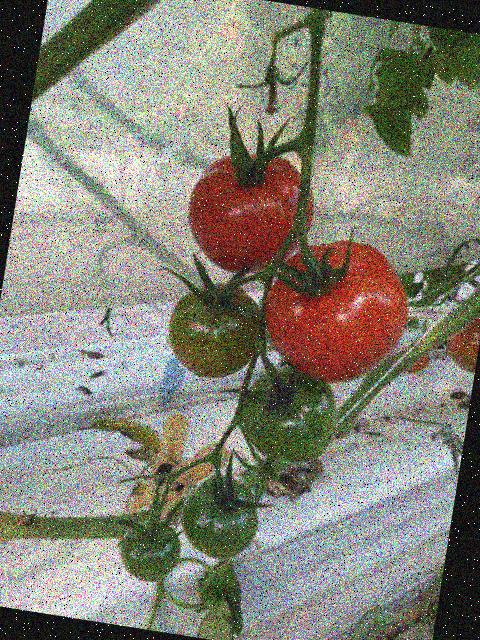l_fully_ripened: (254, 230, 419, 393), (178, 143, 322, 284)
l_green: (235, 356, 346, 470), (162, 276, 271, 386), (174, 470, 265, 565), (115, 514, 185, 585)
l_half_ripened: (443, 311, 480, 374)
